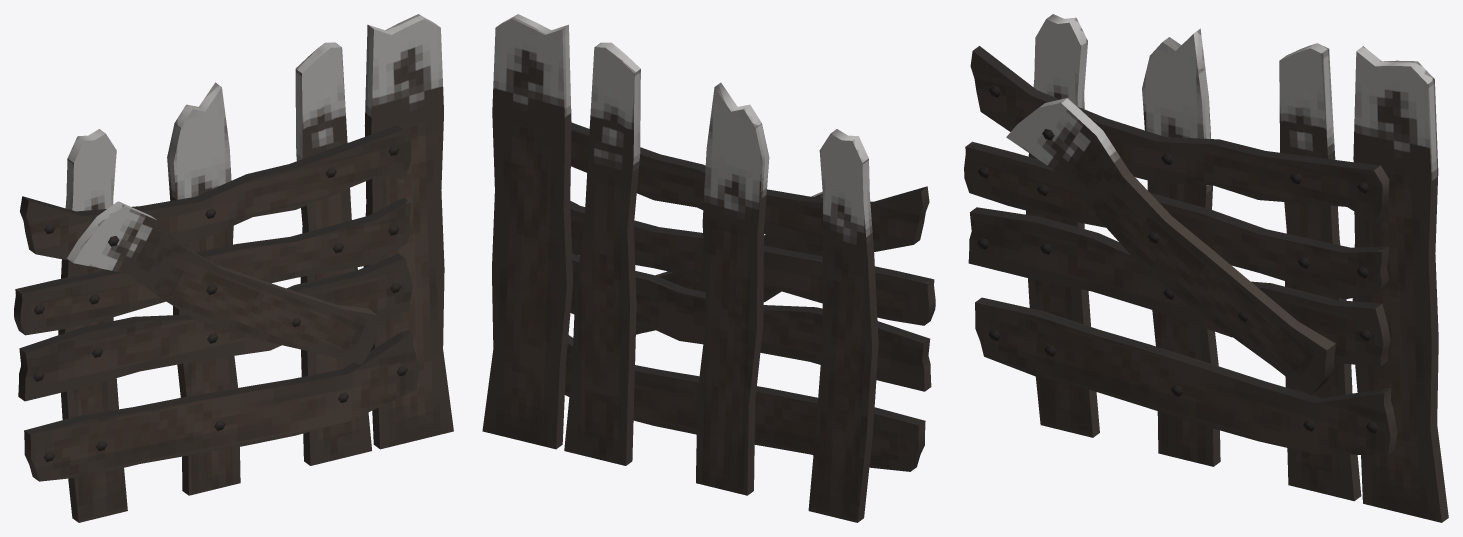
The model's file is FenceV3ModelUnity.fbx.
3 views of the same model, side by side, from view 1: azimuth 30°, elevation 25°; view 2: azimuth 150°, elevation 25°; view 3: azimuth 330°, elevation 25° (orthographic). The views are drawn at different scales.
Visible parts, largest first — view 1: FenceVariant3Model; view 2: FenceVariant3Model; view 3: FenceVariant3Model.
Part boxes in pixels (box(x1,y1,x2,y2)): FenceVariant3Model: box(14, 14, 453, 522); FenceVariant3Model: box(482, 14, 935, 522); FenceVariant3Model: box(964, 14, 1448, 522).
Size of the model in its own units: 212 by 194 by 18.3.
Materials: 1 (1 with a texture image).
